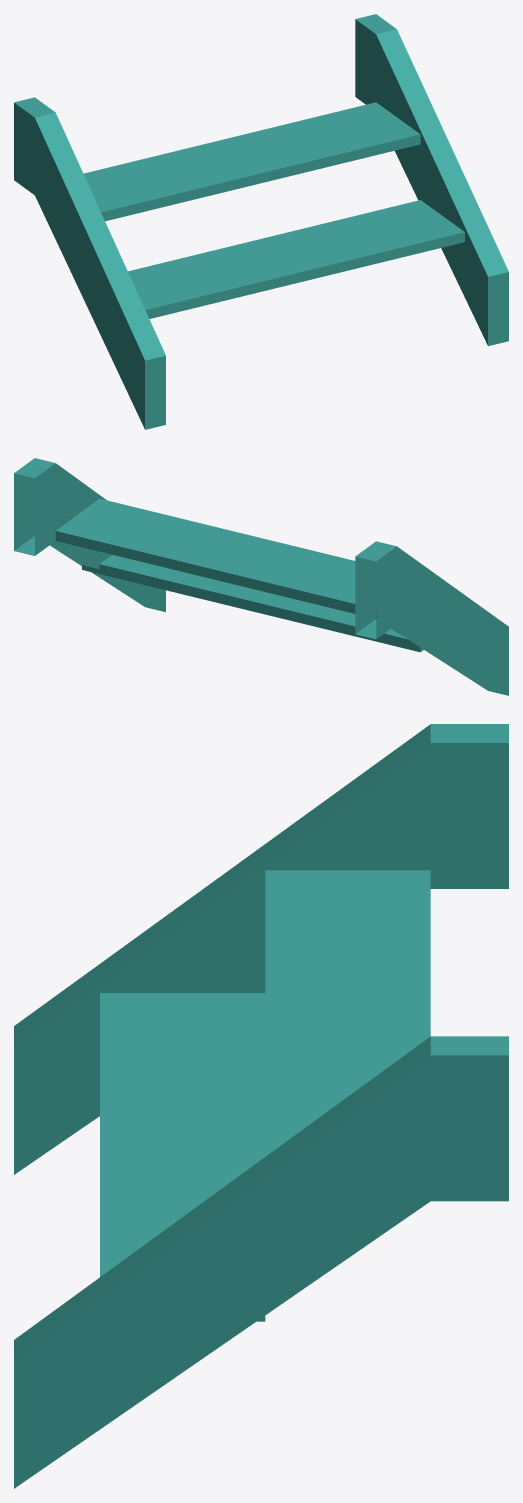
Rendered from SmallStair_1.fbx.
3 renders of one model, top to bottom at view 1: azimuth 30°, elevation 25°; view 2: azimuth 150°, elevation 25°; view 3: azimuth 270°, elevation 25°, orthographic. The views are drawn at different scales.
Parts seen in each view (by area): view 1: LowStair_1; view 2: LowStair_1; view 3: LowStair_1.
Boxes of the visible parts, x1=… form: LowStair_1: x1=14, y1=14, x2=508, y2=429; LowStair_1: x1=14, y1=458, x2=508, y2=695; LowStair_1: x1=14, y1=724, x2=508, y2=1488.
Size of the model in its own units: 108 by 65.61 by 68.02.
